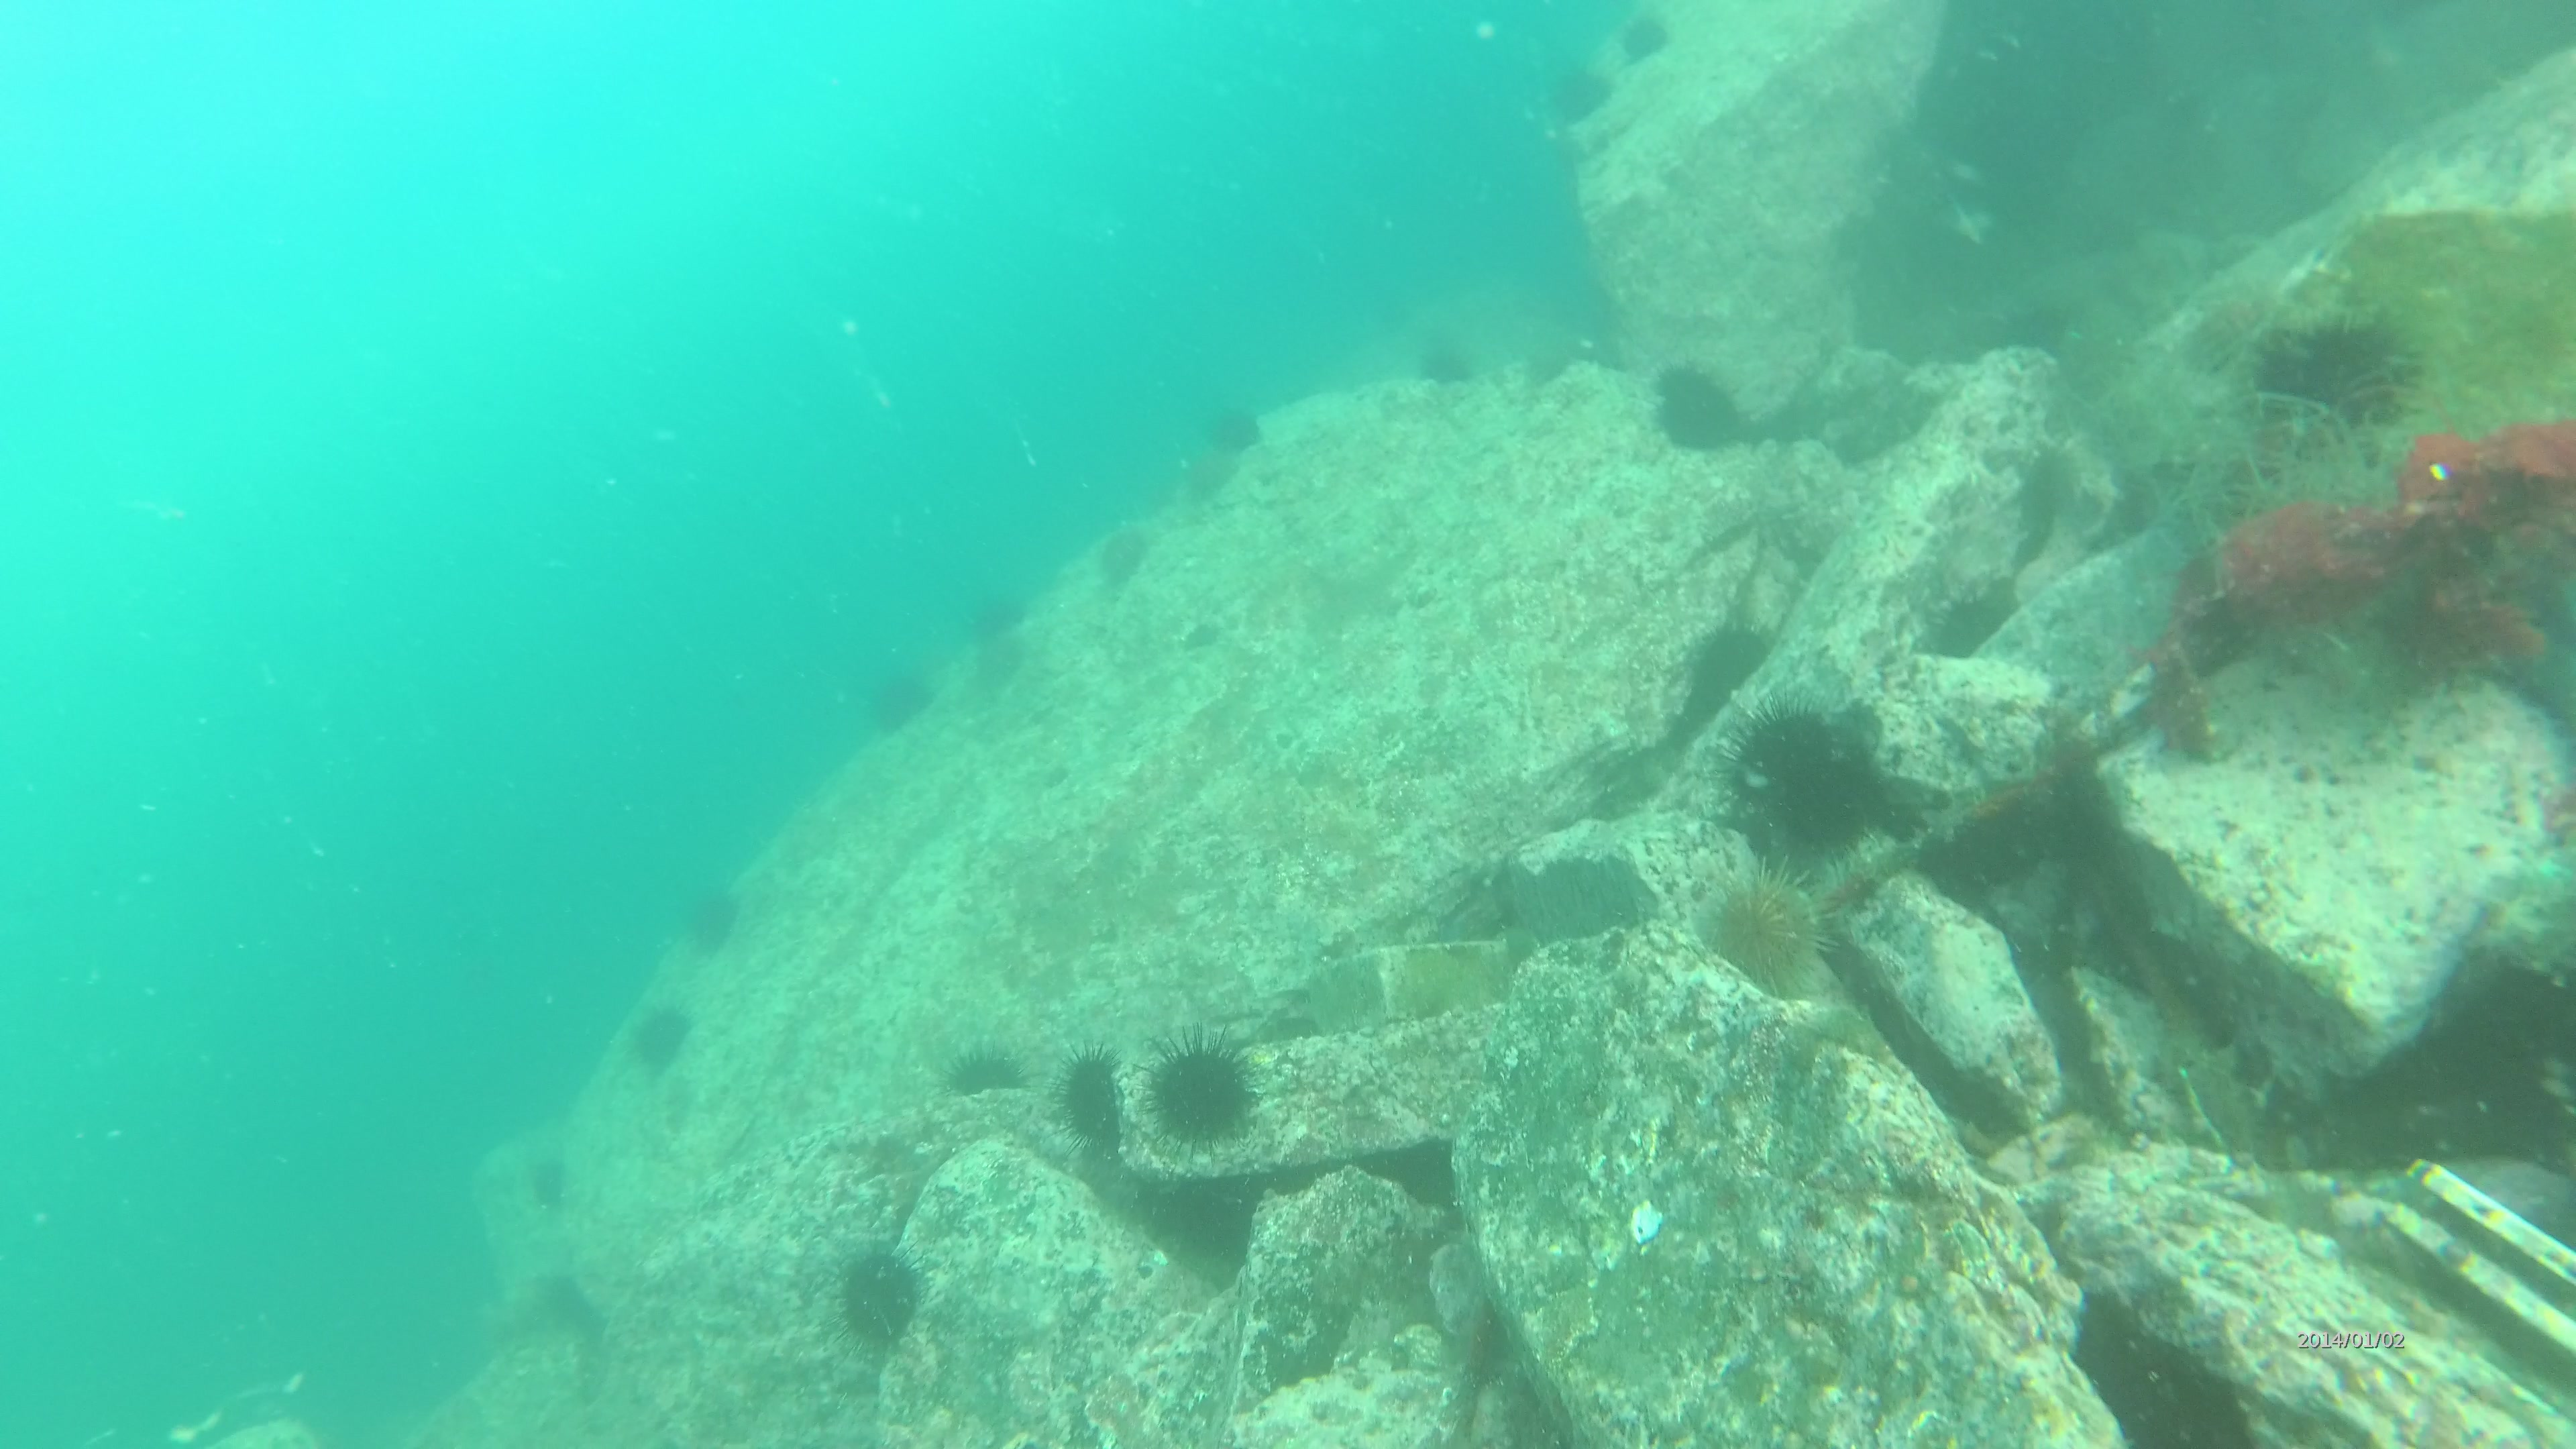echinus: (1700, 862, 1844, 994), (1146, 1019, 1269, 1161), (1720, 699, 1847, 803), (1047, 1042, 1138, 1177), (835, 1240, 932, 1364), (1651, 356, 1762, 464), (1686, 621, 1775, 706), (679, 885, 747, 968), (863, 671, 938, 736), (1088, 522, 1152, 596), (955, 589, 1028, 653), (1410, 334, 1481, 398), (943, 1053, 1024, 1102), (1552, 69, 1617, 129), (633, 1007, 690, 1076), (1212, 402, 1267, 467), (1610, 14, 1674, 67), (527, 1150, 571, 1217)
